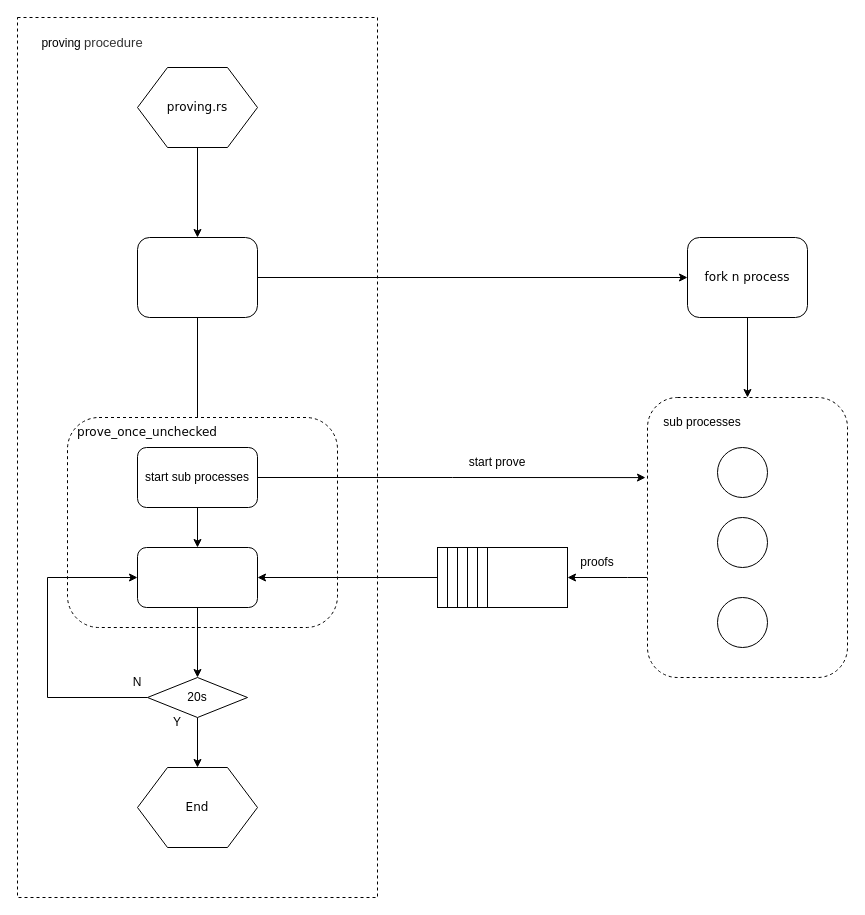
The diagram is 865 pixels wide and 915 high, and some of its shapes have lost their labels. The centre of each missing label's shape, as x and y in pixels:
"genesis_block" goes at (x=197, y=277).
"read and verify" goes at (x=197, y=577).
